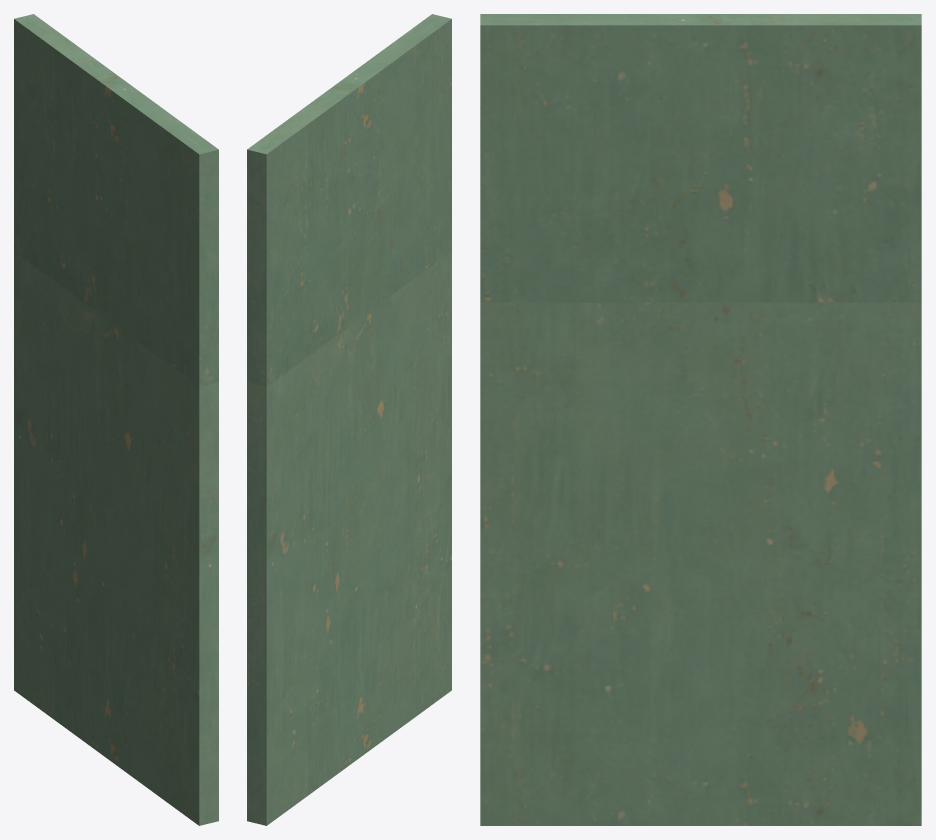
File: bath-urinal-divider.gltf
3 renders of one model, left to right at view 1: azimuth 30°, elevation 25°; view 2: azimuth 150°, elevation 25°; view 3: azimuth 270°, elevation 25°, orthographic. The views are drawn at different scales.
Parts seen in each view (by area): view 1: partition-paint; view 2: partition-paint; view 3: partition-paint.
Part boxes in pixels (box(x1,y1,x2,y2)): partition-paint: box(14, 14, 218, 825); partition-paint: box(247, 14, 451, 825); partition-paint: box(480, 14, 921, 825).
Bounding box in the file's own units: 0.04 × 1.3 × 0.65.
1 material, 1 textured.
